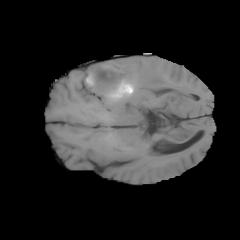glioma: (84, 61, 167, 108)
